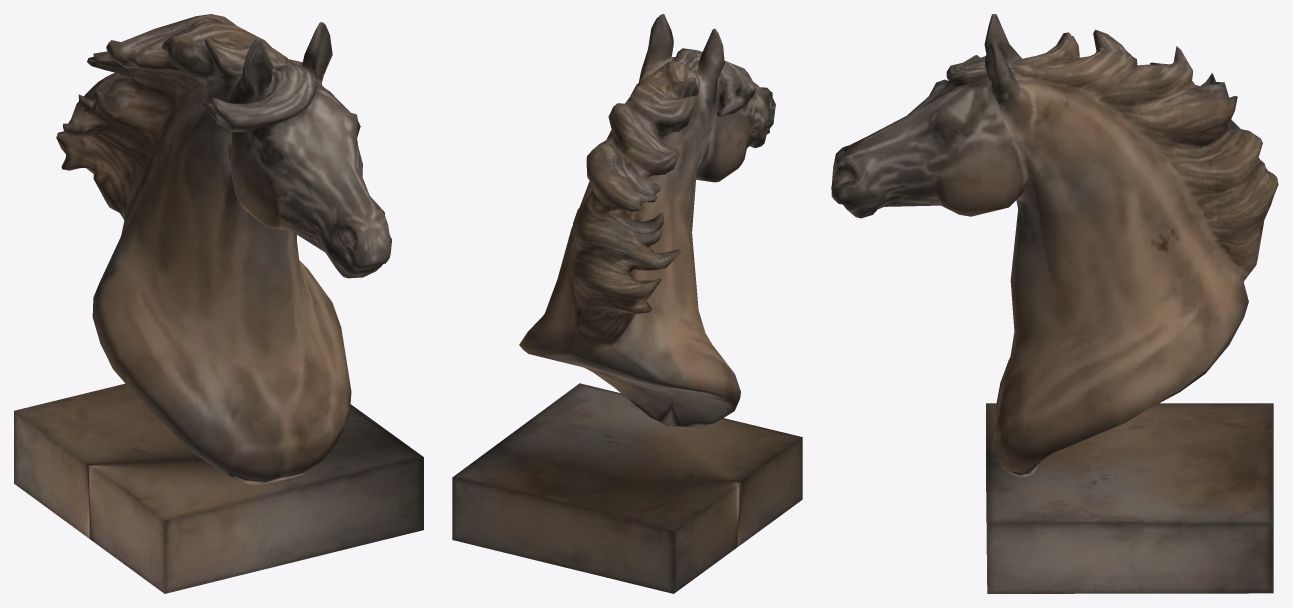
The model's file is horse_head.glb.
3 renders of one model, left to right at view 1: azimuth 30°, elevation 25°; view 2: azimuth 150°, elevation 25°; view 3: azimuth 270°, elevation 25°, orthographic. The views are drawn at different scales.
Visible parts, largest first — view 1: horse_head; view 2: horse_head; view 3: horse_head.
Part boxes in pixels (bbox=[...]): horse_head: bbox=[14, 14, 423, 593]; horse_head: bbox=[452, 14, 802, 593]; horse_head: bbox=[831, 14, 1278, 593].
Bounding box in the file's own units: 0.214 × 0.4175 × 0.3339.
1 material, 1 textured.
